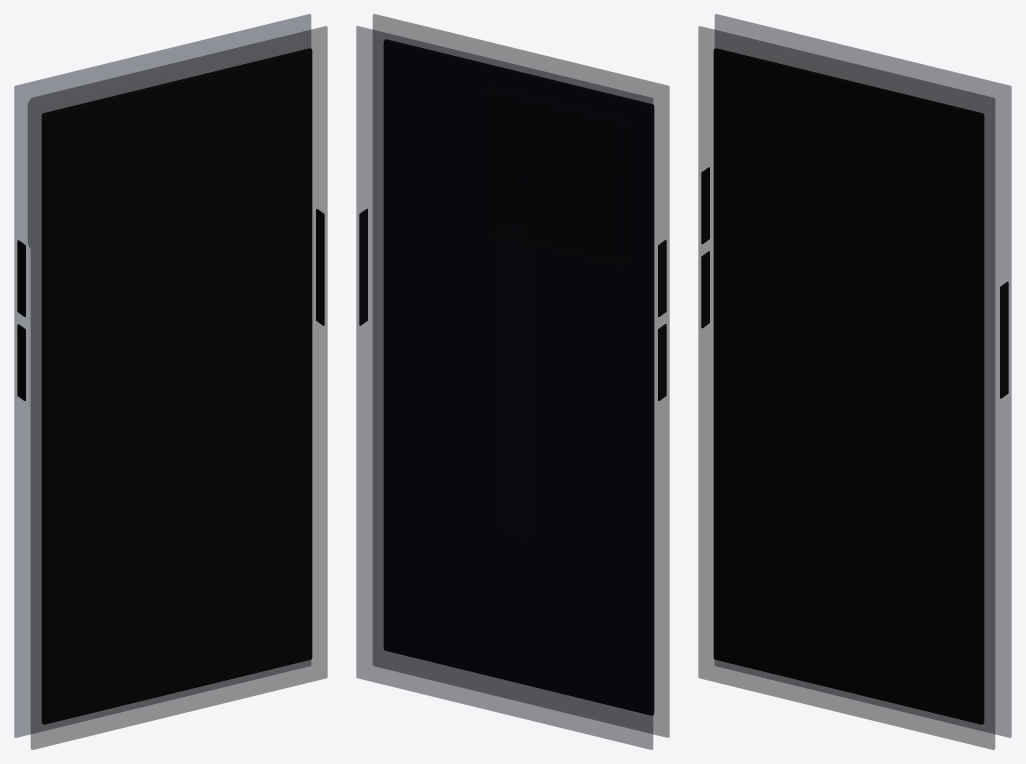
The model's file is iPhone_18_Pro__drawn_.obj.
The picture shows the model from 3 angles, left to right: view 1: azimuth 30°, elevation 25°; view 2: azimuth 150°, elevation 25°; view 3: azimuth 330°, elevation 25°; orthographic projection.
Parts seen in each view (by area): view 1: glass.front, display.panel, glass.back, button.side, button.volume_1, button.volume_2; view 2: glass.back, display.panel, glass.front, camera.island, chassis.rail, lens.1, lens.2, lens.3, button.side, button.volume_1, button.volume_2; view 3: glass.front, display.panel, glass.back, button.side, button.volume_2, button.volume_1.
Boxes of the visible parts, box(x1,y1,x2,y2) form: glass.front: box(31, 26, 327, 749); display.panel: box(41, 48, 312, 724); glass.back: box(14, 14, 310, 737); button.side: box(316, 209, 324, 325); button.volume_1: box(17, 324, 25, 400); button.volume_2: box(17, 240, 25, 316); glass.back: box(356, 26, 652, 749); display.panel: box(383, 39, 654, 715); glass.front: box(373, 14, 669, 737); camera.island: box(483, 84, 629, 269); chassis.rail: box(497, 223, 529, 540); lens.1: box(562, 132, 617, 190); lens.2: box(497, 116, 552, 174); lens.3: box(529, 169, 585, 227); button.side: box(359, 209, 367, 325); button.volume_1: box(658, 324, 666, 400); button.volume_2: box(658, 240, 666, 316); glass.front: box(698, 26, 994, 749); display.panel: box(713, 48, 984, 724); glass.back: box(715, 14, 1011, 737); button.side: box(1000, 281, 1008, 398); button.volume_2: box(701, 167, 709, 244); button.volume_1: box(701, 251, 709, 328).
Size of the model in its own units: 0.0786 by 0.163 by 0.0118.
